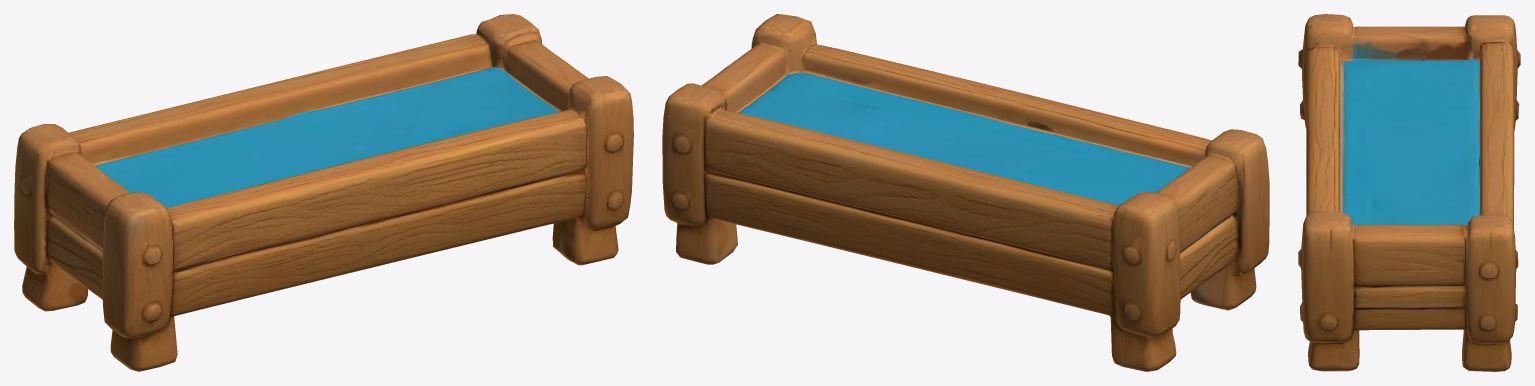
File: water_trough.glb
The picture shows the model from 3 angles, left to right: view 1: azimuth 30°, elevation 25°; view 2: azimuth 150°, elevation 25°; view 3: azimuth 270°, elevation 25°; orthographic projection. The views are drawn at different scales.
Visible parts, largest first — view 1: textured_mesh.obj; view 2: textured_mesh.obj; view 3: textured_mesh.obj.
Boxes of the visible parts, x1,y1,x2,y2 form: textured_mesh.obj: (14,14,633,371); textured_mesh.obj: (662,14,1269,371); textured_mesh.obj: (1298,14,1520,371).
Size of what is drawn, in the model's own units: 1.72 by 0.5501 by 0.7237.
Materials: 1 (1 with a texture image).
